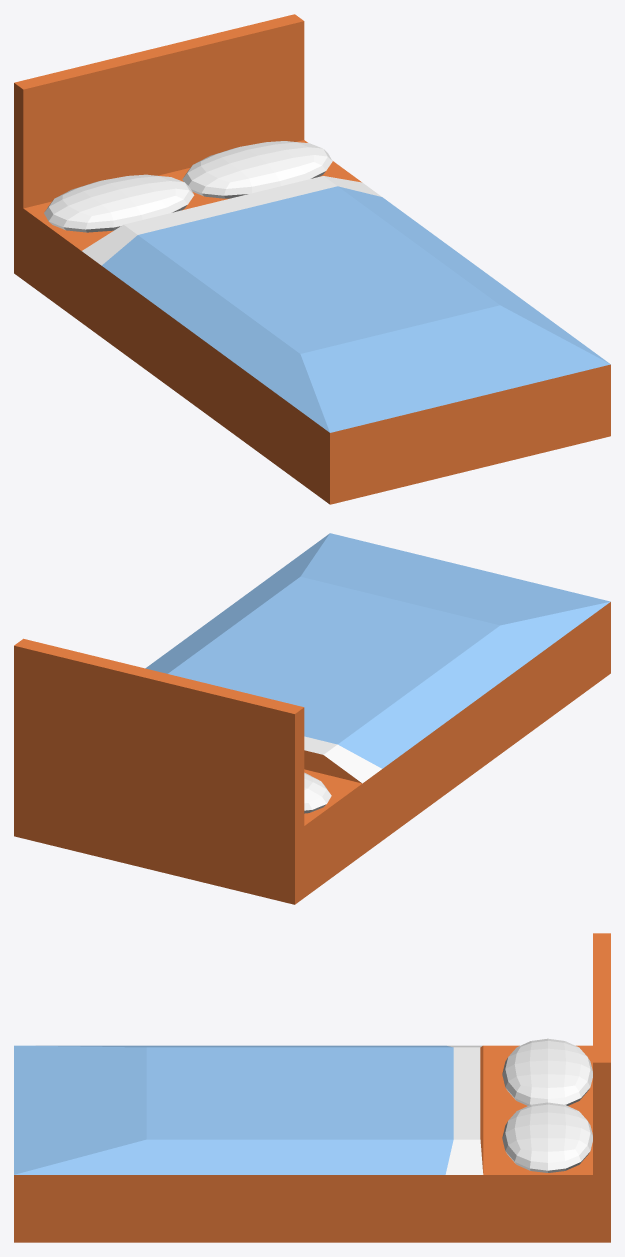
File: bed.fbx
3 renders of one model, top to bottom at view 1: azimuth 30°, elevation 25°; view 2: azimuth 150°, elevation 25°; view 3: azimuth 270°, elevation 25°, orthographic. The views are drawn at different scales.
Visible parts, largest first — view 1: Cube.002; view 2: Cube.002; view 3: Cube.002.
Part boxes in pixels (x1=…): Cube.002: x1=14, y1=14, x2=610, y2=504; Cube.002: x1=14, y1=533, x2=610, y2=904; Cube.002: x1=14, y1=933, x2=610, y2=1242.
Bounding box in the file's own units: 1676 × 1087 × 3268.
